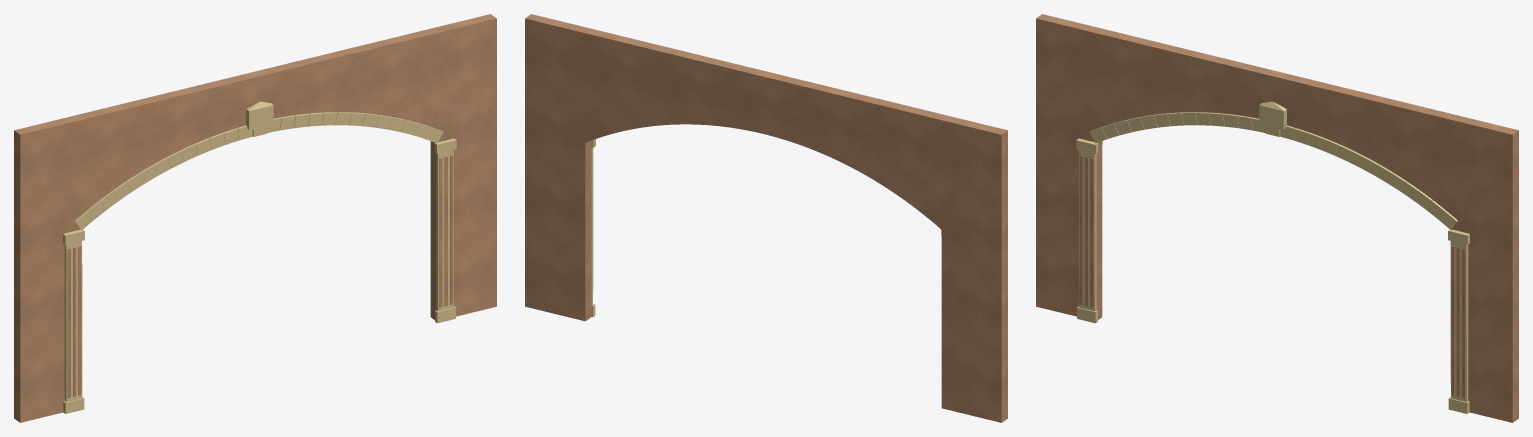
Rendered from proscenium.glb.
3 views of the same model, side by side, from view 1: azimuth 30°, elevation 25°; view 2: azimuth 150°, elevation 25°; view 3: azimuth 330°, elevation 25° (orthographic).
Visible parts, largest first — view 1: proscenium_aplaster, proscenium_gold; view 2: proscenium_aplaster, proscenium_gold; view 3: proscenium_aplaster, proscenium_gold.
Boxes of the visible parts, box(x1,y1,x2,y2) form: proscenium_aplaster: box(14, 14, 496, 422); proscenium_gold: box(63, 101, 456, 413); proscenium_aplaster: box(525, 14, 1007, 422); proscenium_gold: box(591, 139, 595, 316); proscenium_aplaster: box(1036, 14, 1518, 422); proscenium_gold: box(1076, 101, 1469, 413).
Size of the model in its own units: 13.4 by 7.74 by 0.44.
Materials: 2 (1 with a texture image).
